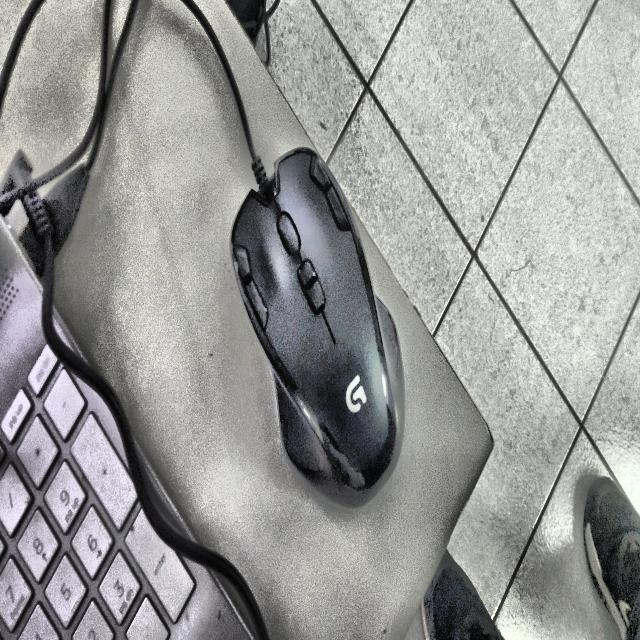Laptop: (0, 220, 252, 640)
MOUSE: (230, 148, 404, 507)
